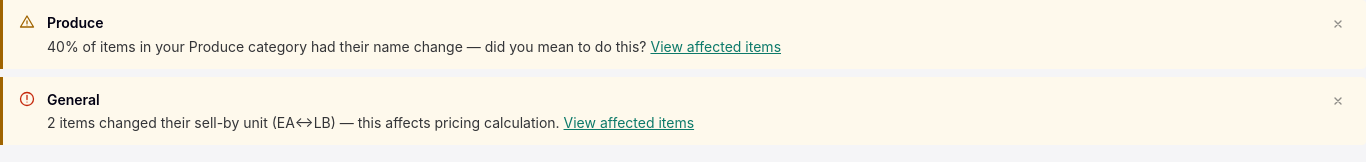
AnomalyAlerts › dismiss button removes alert from DOM
This screenshot has width=1366, height=162.
expect the text "Produce" is shown: met, box [47,14,104,31]
expect the text "General" is shown: met, box [47,91,100,108]
What coordinates should you click on to do the following:
click the 1st button named "Dismiss alert"
I would click on:
 (1338, 24)
Its box is [1326,12,1350,36].
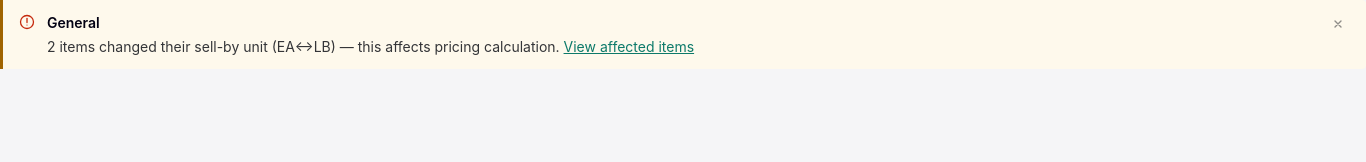
expect the number of buttons "View affected items" is 1: met, box [564,36,694,57]
